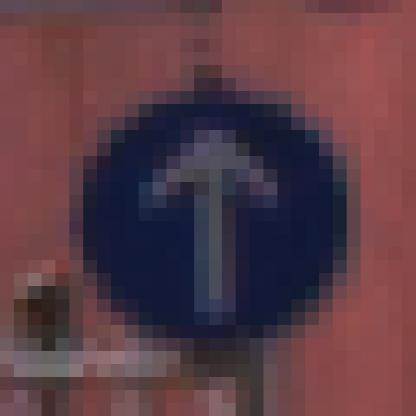AheadOnly: (70, 66, 348, 339)
